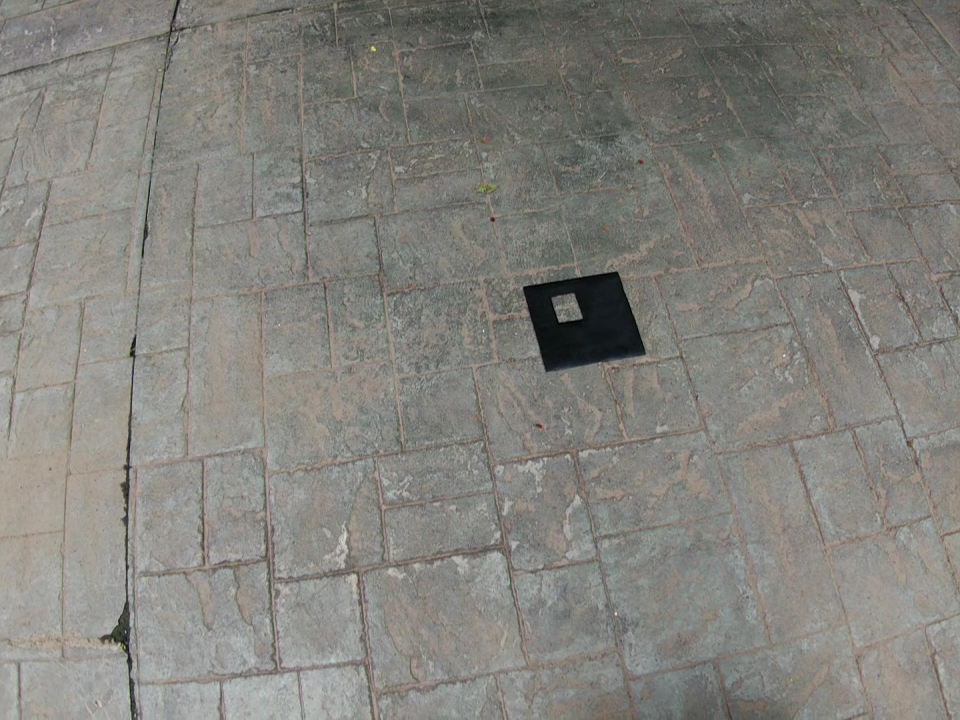qrcode: (522, 272, 645, 373)
